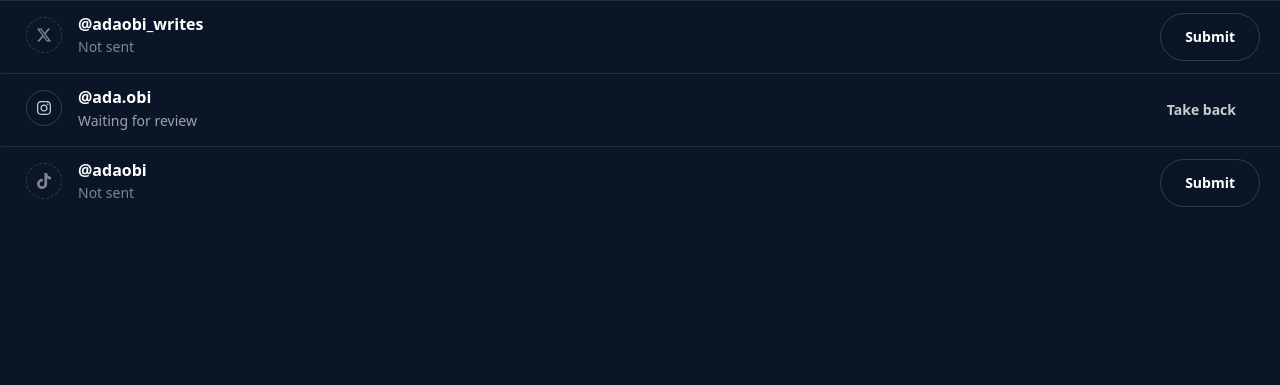
Test: the week's rows › shows a refusal in the server's words and keeps the form
The width and height of the screenshot is (1280, 385).
Click the button with aria-label "Submit your TikTok post" at (1210, 183), box [1160,159,1260,207]
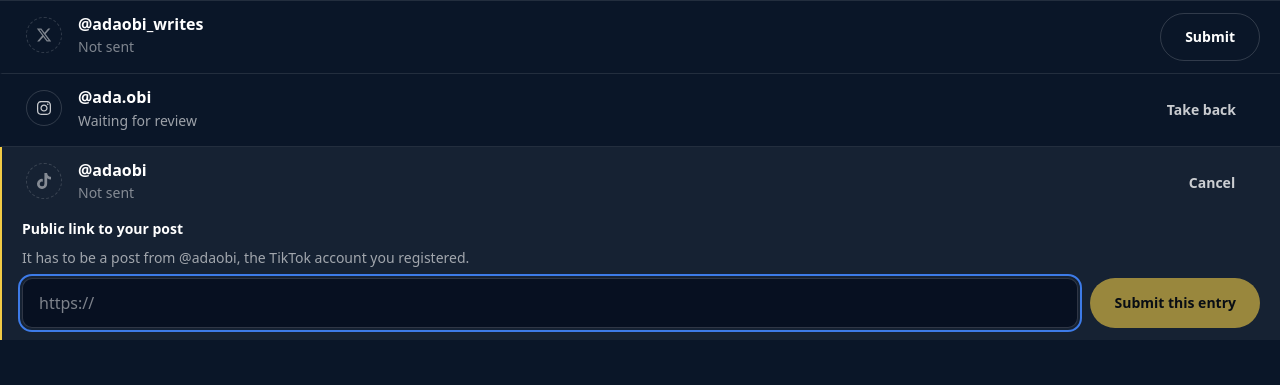
Type "https://www.tiktok.com/@someone/video/1" into the field labelled "Public link to your post" at (550, 303), box [22,278,1078,328]
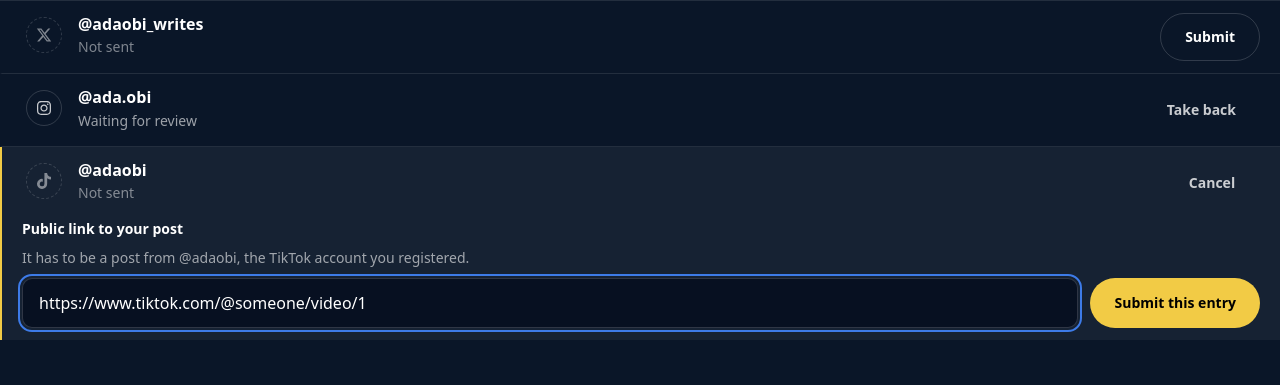
Click the button "Submit this entry" at (1175, 303), box [1090,278,1260,328]
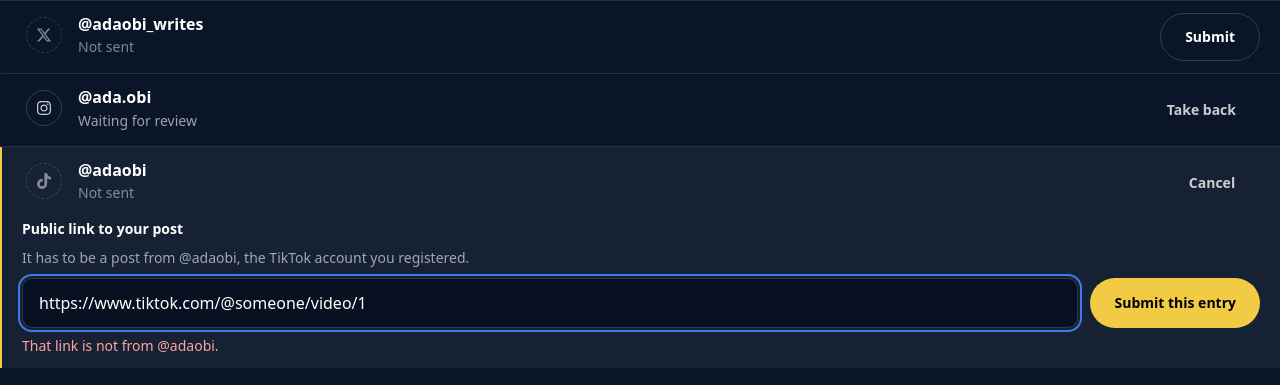
Now the number of fields labelled "Public link to your post" is 1, box [22,278,1078,328]
Now the message reads "That link is not from @adaobi.", box [22,336,219,355]
